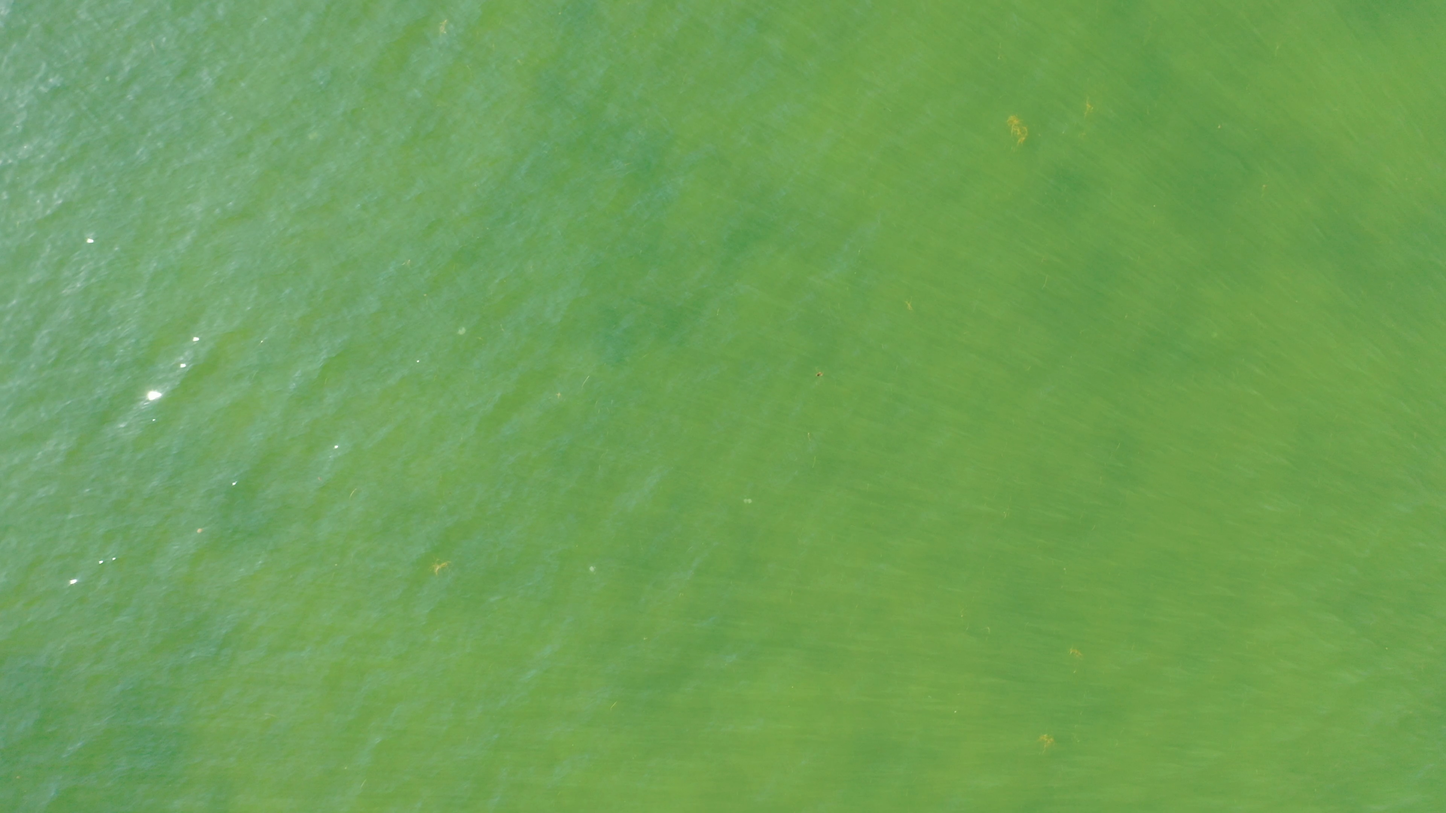meduse: (1211, 331, 1221, 339), (589, 566, 596, 573), (459, 328, 466, 334), (746, 498, 751, 505)
